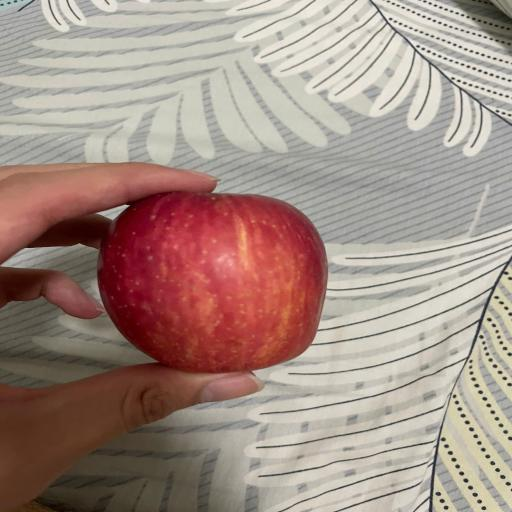apple: (98, 192, 328, 373)
